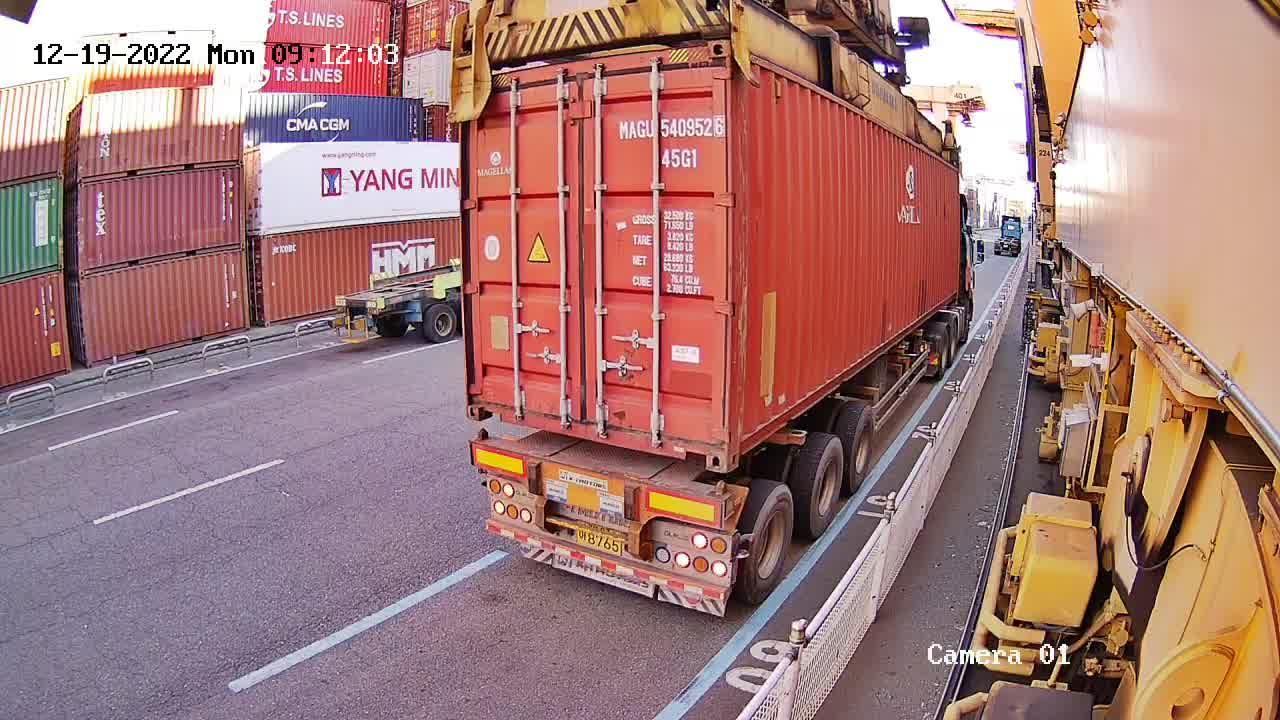Chassis: (475, 436, 733, 526)
Cone: (712, 479, 737, 523), (470, 427, 491, 445)
Hole_L: (729, 410, 768, 474), (467, 381, 503, 422)
Hole_R: (679, 419, 728, 472)
Tire: (750, 488, 792, 593), (805, 441, 844, 538), (847, 406, 874, 485)
